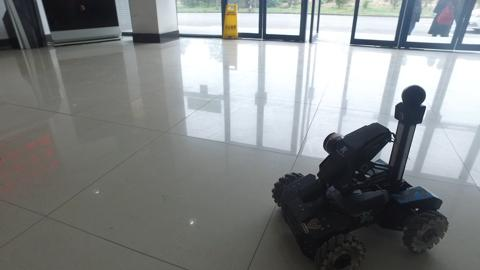chariot: (270, 83, 451, 270)
